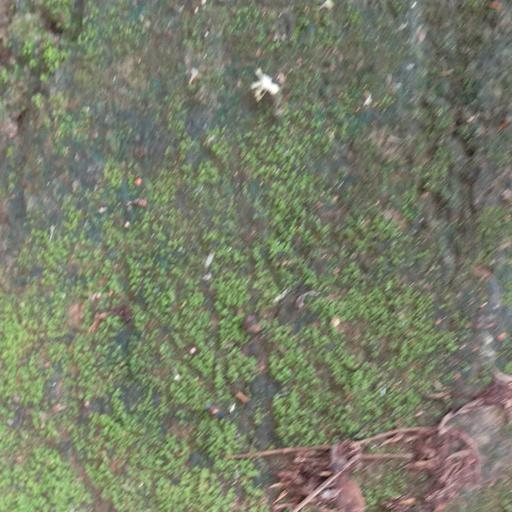algae: (6, 11, 466, 464)
